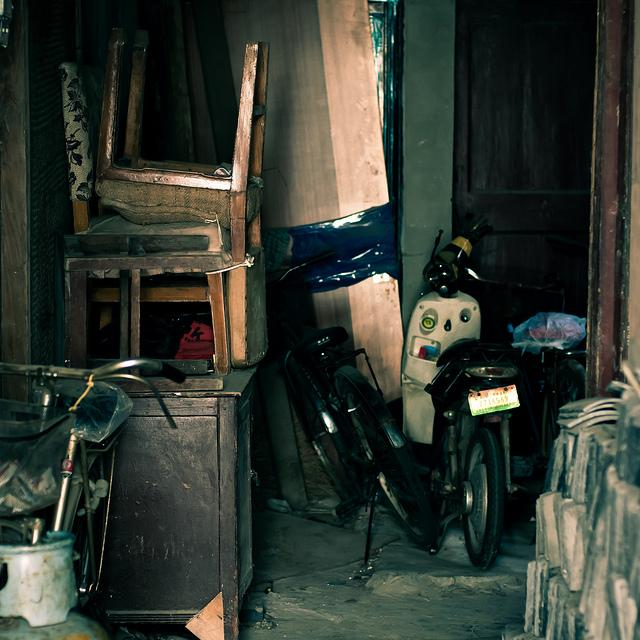motor: (399, 200, 519, 571)
